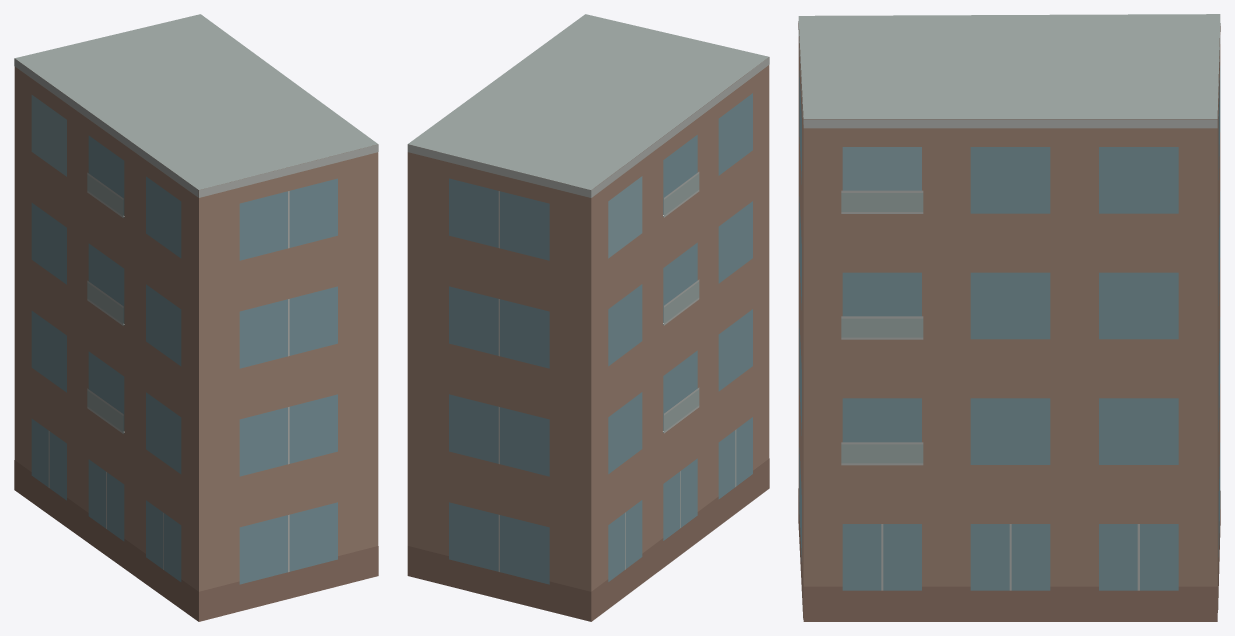
File: survey-upis-32974276.glb
The picture shows the model from 3 angles, left to right: view 1: azimuth 30°, elevation 25°; view 2: azimuth 150°, elevation 25°; view 3: azimuth 270°, elevation 25°; orthographic projection. The views are drawn at different scales.
Parts seen in each view (by area): view 1: survey-upis-32974276.tmp; view 2: survey-upis-32974276.tmp; view 3: survey-upis-32974276.tmp.
Boxes of the visible parts, <box> form: survey-upis-32974276.tmp: <box>14,14,378,621</box>; survey-upis-32974276.tmp: <box>407,14,769,621</box>; survey-upis-32974276.tmp: <box>798,14,1220,621</box>.
Bounding box in the file's own units: 6.01 × 13.3 × 10.13.
